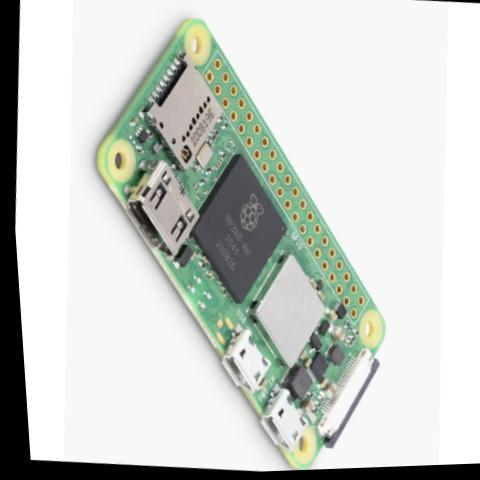Raspberry-Pi-Zero-2-W: (58, 2, 417, 478)
